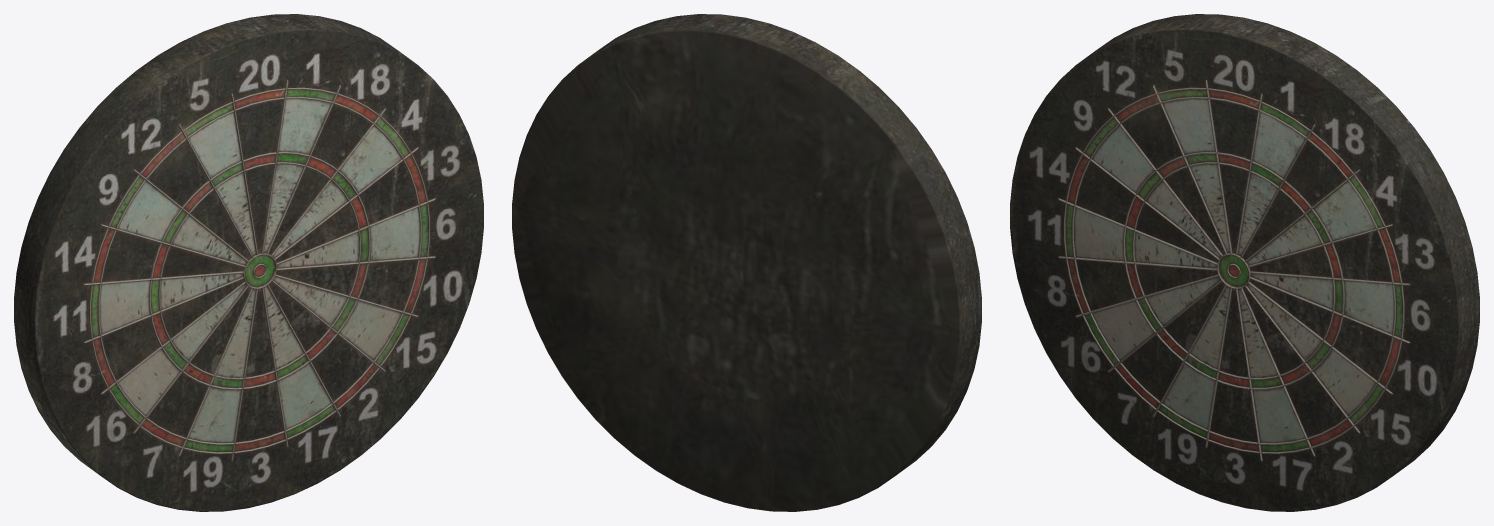
The model's file is dartboard.glb.
3 views of the same model, side by side, from view 1: azimuth 30°, elevation 25°; view 2: azimuth 150°, elevation 25°; view 3: azimuth 330°, elevation 25° (orthographic).
Parts seen in each view (by area): view 1: dartboard; view 2: dartboard; view 3: dartboard.
Part boxes in pixels (x1,y1,x2,y2): dartboard: [14, 14, 483, 511]; dartboard: [512, 14, 981, 511]; dartboard: [1010, 14, 1479, 511].
Size of the model in its own units: 0.4507 by 0.4507 by 0.0398.
1 material, 1 textured.
